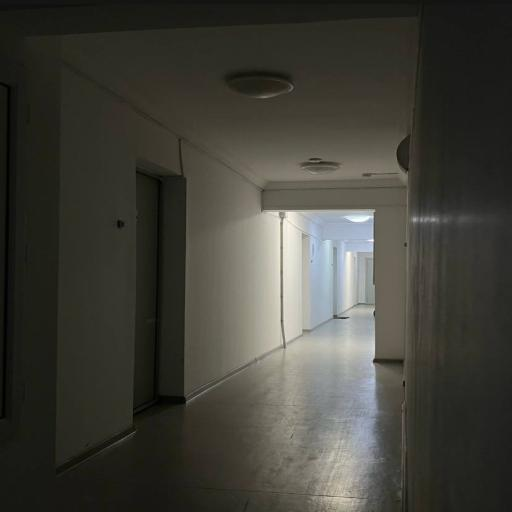car: (248, 162, 398, 408)
child: (134, 172, 160, 410), (365, 258, 375, 304)
